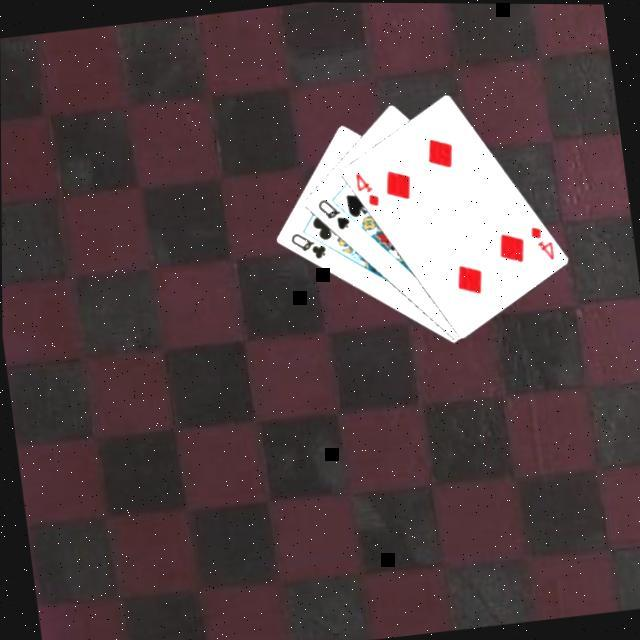4D: (523, 221, 556, 265), (349, 167, 380, 211)
QC: (284, 226, 328, 265)
QS: (312, 193, 352, 235)
